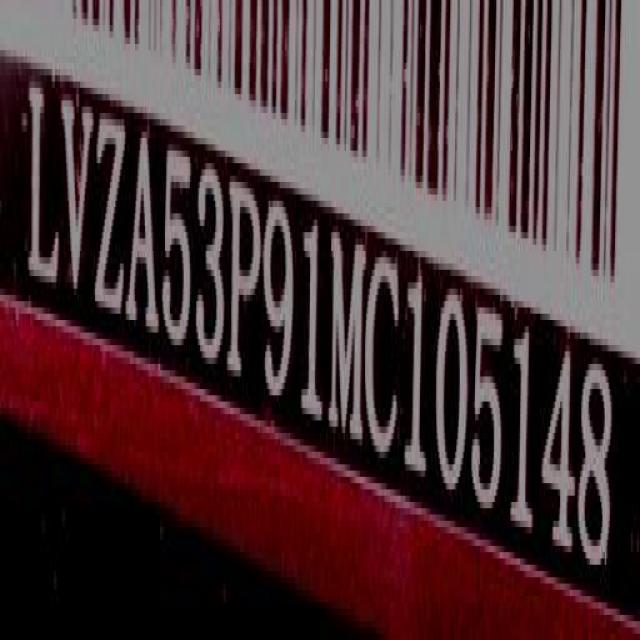0: (436, 274, 467, 502)
1: (402, 260, 428, 496), (512, 304, 536, 551), (303, 197, 326, 438)
3: (196, 146, 228, 378)
4: (545, 326, 577, 571)
5: (471, 284, 505, 518), (162, 125, 194, 358)
8: (582, 346, 614, 579)
9: (262, 185, 294, 413)
A: (129, 113, 161, 340)
C: (367, 235, 401, 472)
L: (27, 60, 59, 297)
M: (329, 215, 367, 456)
P: (228, 170, 262, 408)
V: (62, 79, 96, 324)
Z: (97, 100, 127, 330)
